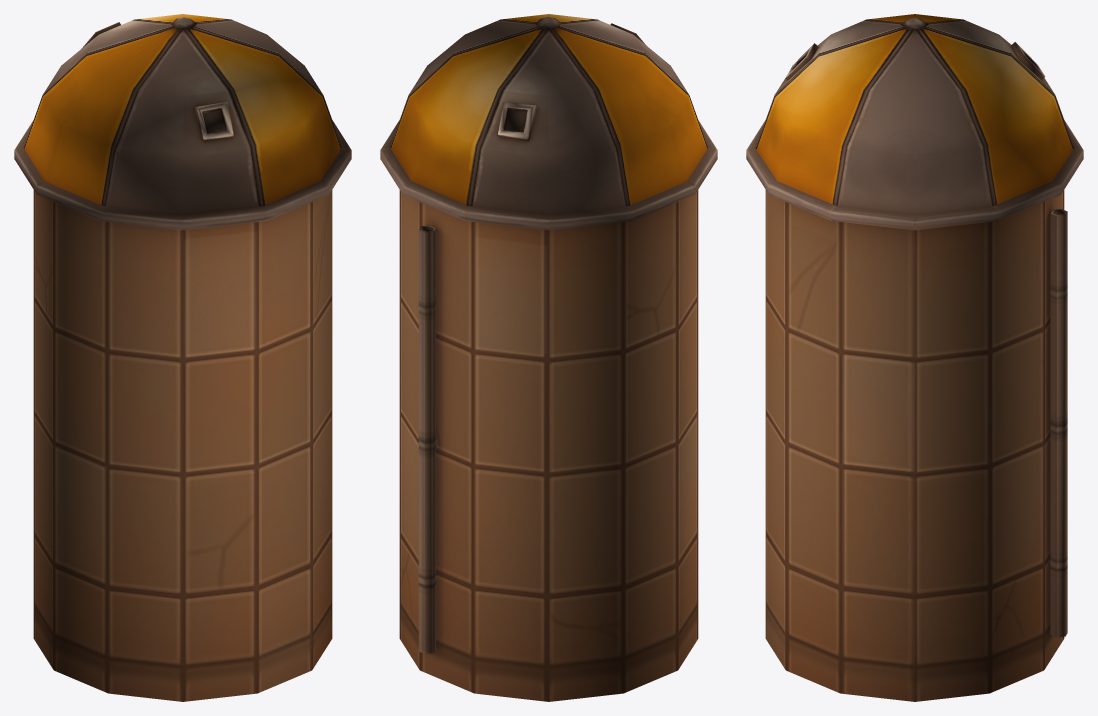
The model's file is silo.obj.
3 renders of one model, left to right at view 1: azimuth 30°, elevation 25°; view 2: azimuth 150°, elevation 25°; view 3: azimuth 270°, elevation 25°, orthographic.
Parts seen in each view (by area): view 1: silo:farm_silo_farm_silo_mesh; view 2: silo:farm_silo_farm_silo_mesh; view 3: silo:farm_silo_farm_silo_mesh.
Part boxes in pixels (box(x1,y1,x2,y2)): silo:farm_silo_farm_silo_mesh: box(14, 14, 351, 701); silo:farm_silo_farm_silo_mesh: box(380, 14, 717, 701); silo:farm_silo_farm_silo_mesh: box(746, 14, 1083, 701).
Bounding box in the file's own units: 34.63 × 70.47 × 34.63.
1 material, 1 textured.
